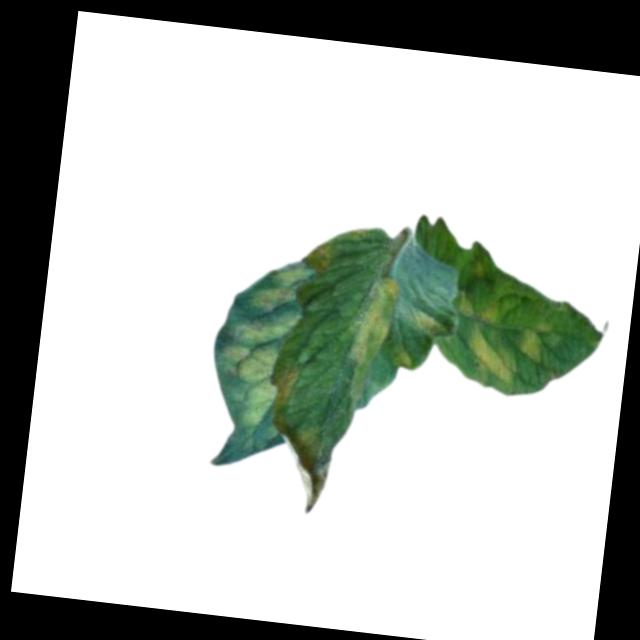Leaf_Mold: (215, 255, 314, 435), (348, 274, 403, 372), (463, 324, 522, 386), (272, 364, 302, 436), (517, 318, 556, 366), (457, 291, 504, 325), (415, 309, 446, 340)
